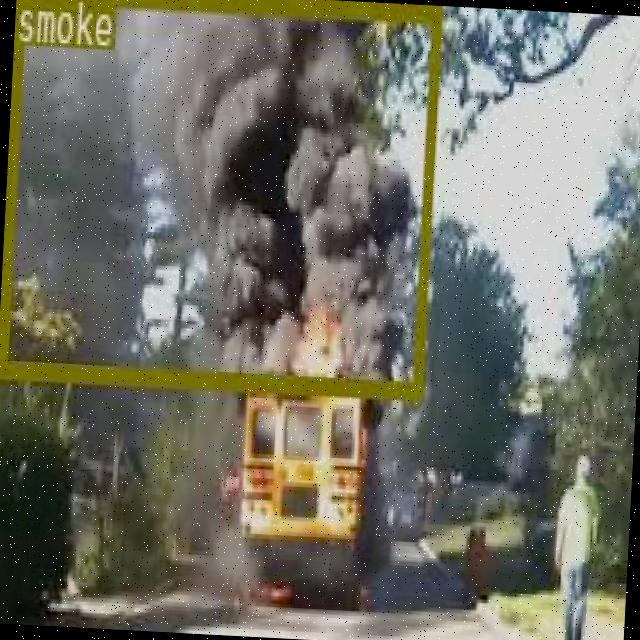smoke: (0, 0, 441, 394)
